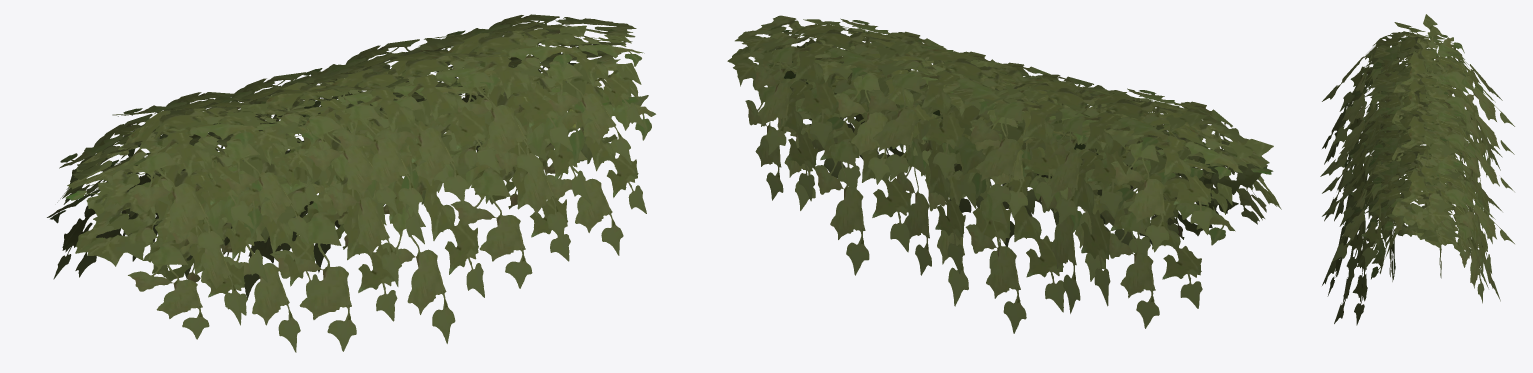
The picture shows the model from 3 angles, left to right: view 1: azimuth 30°, elevation 25°; view 2: azimuth 150°, elevation 25°; view 3: azimuth 270°, elevation 25°; orthographic projection. The views are drawn at different scales.
Parts seen in each view (by area): view 1: body0_model0_lod0_mesh0; view 2: body0_model0_lod0_mesh0; view 3: body0_model0_lod0_mesh0.
Part boxes in pixels (left/top/right/bottom): body0_model0_lod0_mesh0: left=47, top=14, right=655, bottom=352; body0_model0_lod0_mesh0: left=727, top=15, right=1281, bottom=333; body0_model0_lod0_mesh0: left=1320, top=14, right=1514, bottom=325.
Bounding box in the file's own units: 115 × 46.98 × 44.25.
Materials: 1 (1 with a texture image).
